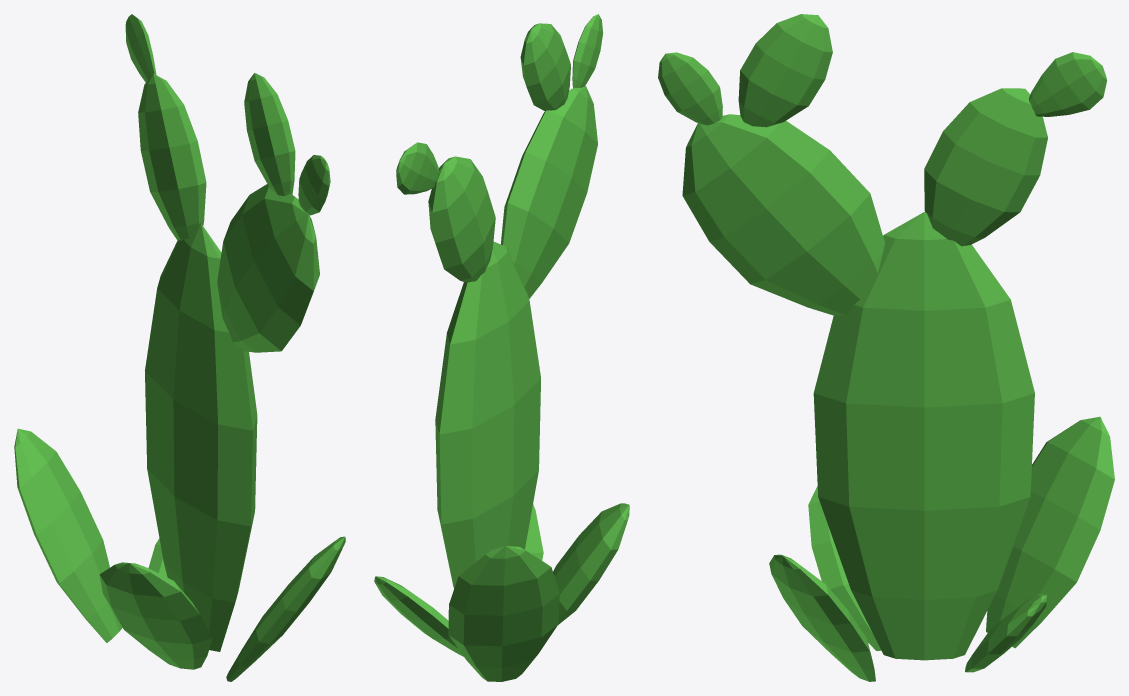
File: Cactus_Flat.fbx
3 views of the same model, side by side, from view 1: azimuth 30°, elevation 25°; view 2: azimuth 150°, elevation 25°; view 3: azimuth 270°, elevation 25° (orthographic). The views are drawn at different scales.
Parts seen in each view (by area): view 1: Cactus_Flat; view 2: Cactus_Flat; view 3: Cactus_Flat.
Boxes of the visible parts, x1,y1,x2,y2 form: Cactus_Flat: (14, 14, 345, 681); Cactus_Flat: (374, 14, 629, 681); Cactus_Flat: (658, 14, 1114, 681).
Bounding box in the file's own units: 64.35 × 179 × 112.
